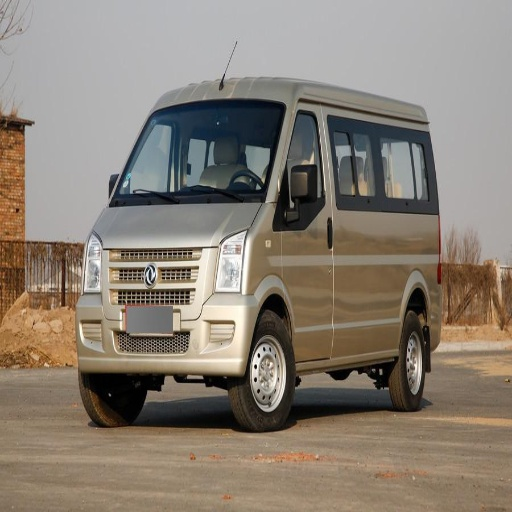front_bumper: (75, 247, 260, 373)
front_glass: (111, 100, 284, 205)
front_left_door: (280, 108, 383, 359)
trunk: (357, 218, 442, 330)
